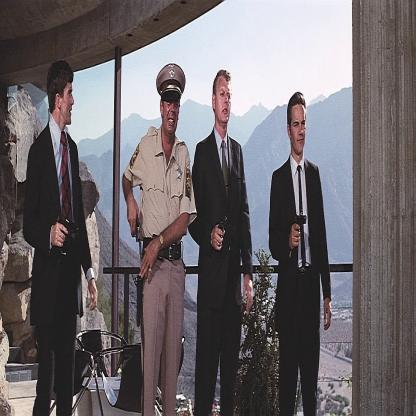gun: (289, 197, 317, 257), (206, 203, 235, 252), (54, 204, 80, 256), (130, 206, 146, 269)
